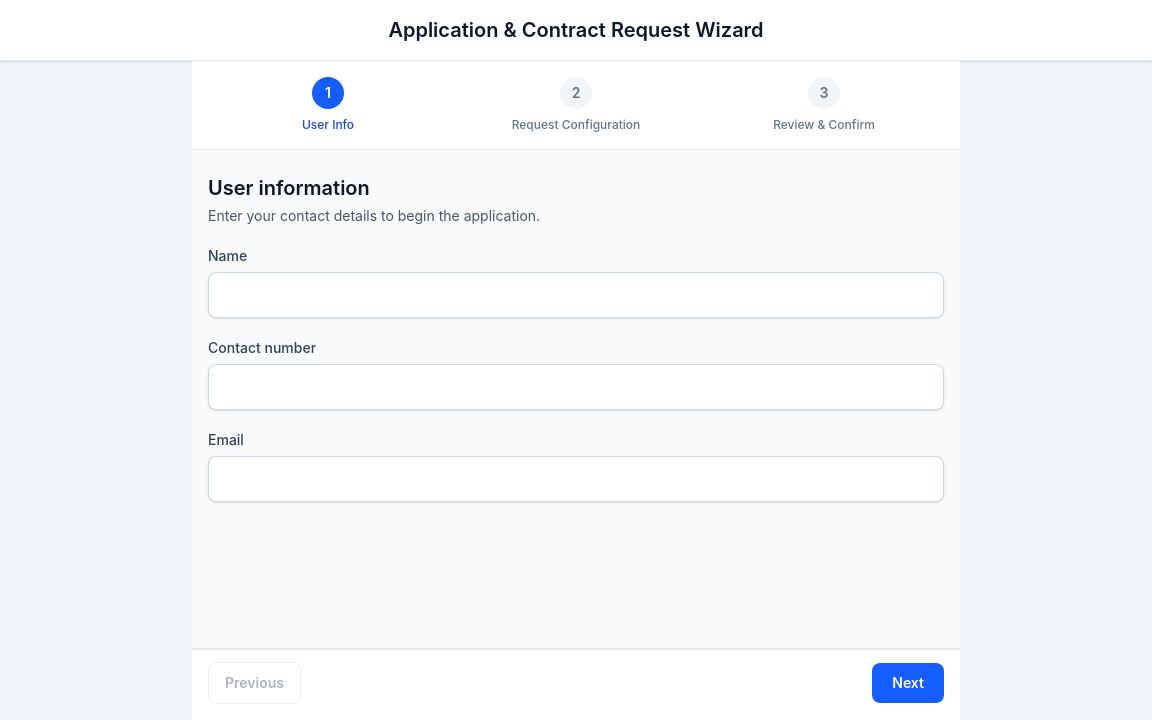
Scenario: ApplicationWizard › allows valid navigation from step 1 to step 2
Step 1. Type "Jane Doe" into the field labelled "Name" → (576, 295), box [208,272,944,318]
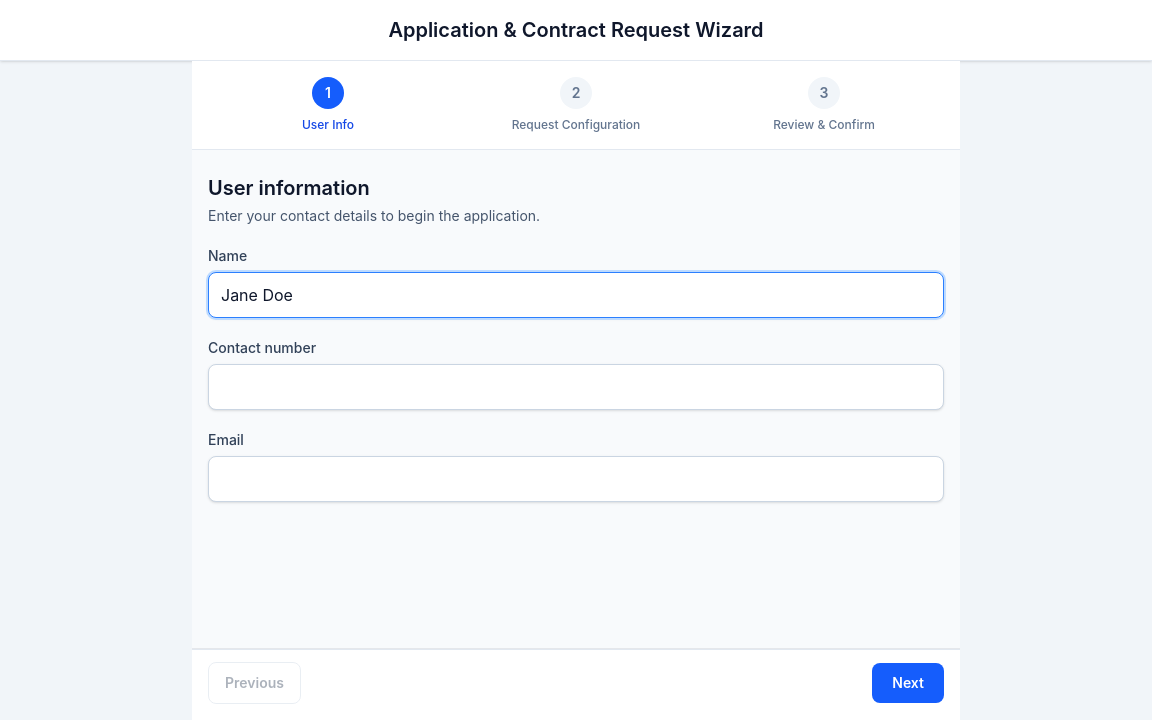
Step 2. Type "+1 (555) 123-4567" into the field labelled "Contact number" → (576, 387), box [208,364,944,410]
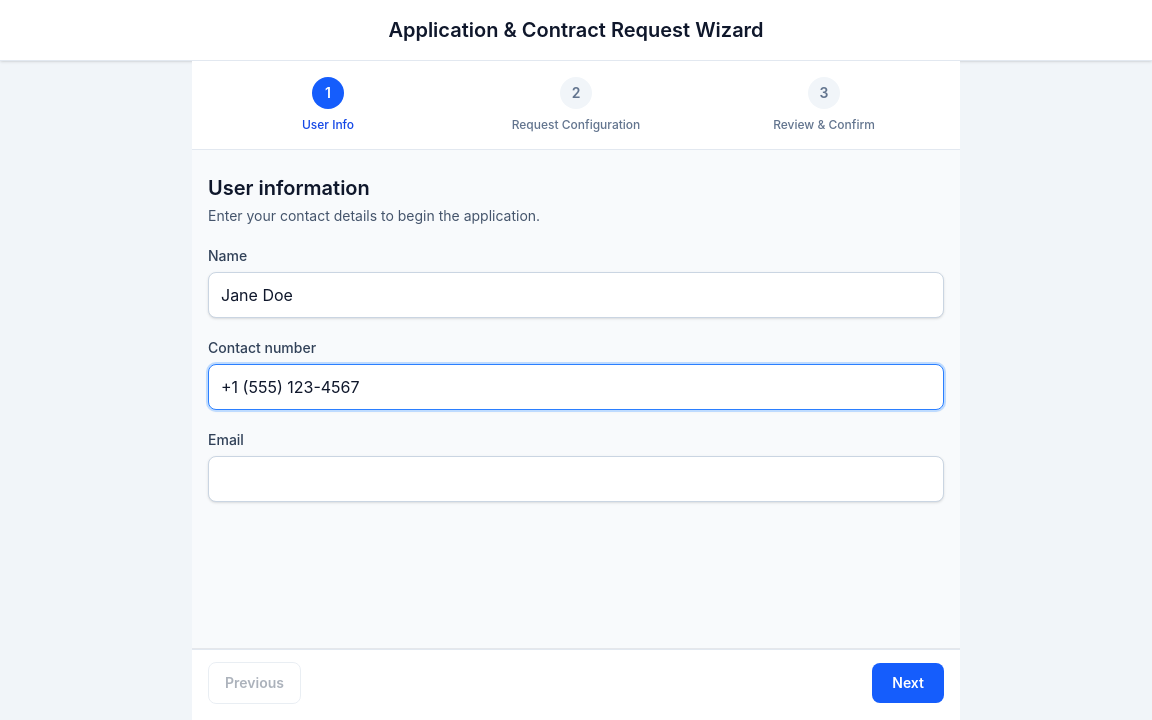
Step 3. Type "jane@example.com" into the field labelled "Email" → (576, 479), box [208,456,944,502]
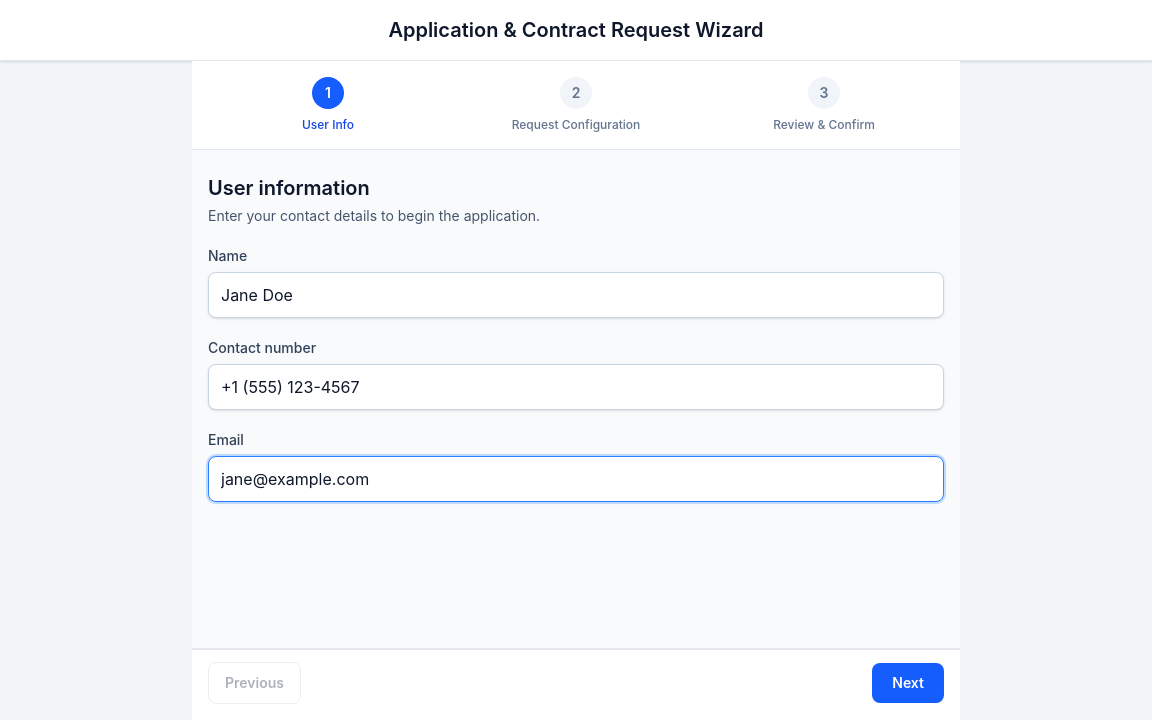
Step 4. Click the button "Next" → click(908, 683), box [872,663,944,703]
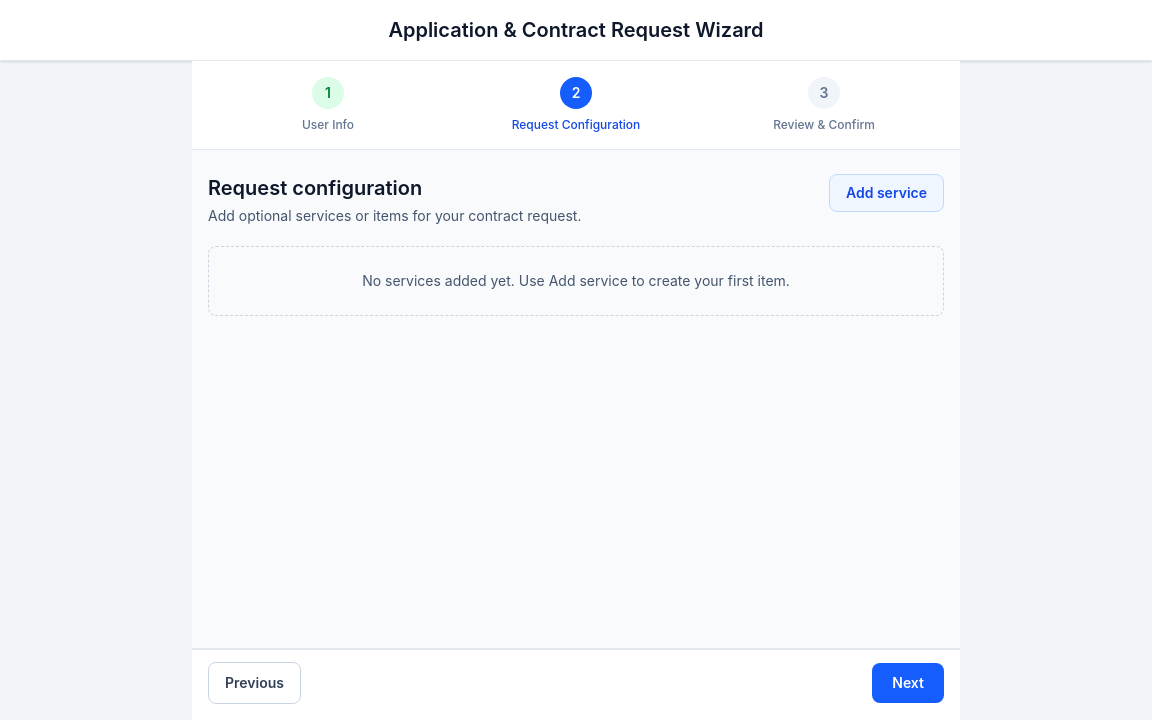
Check: the heading "Request configuration" is shown, box [208,176,422,200]
